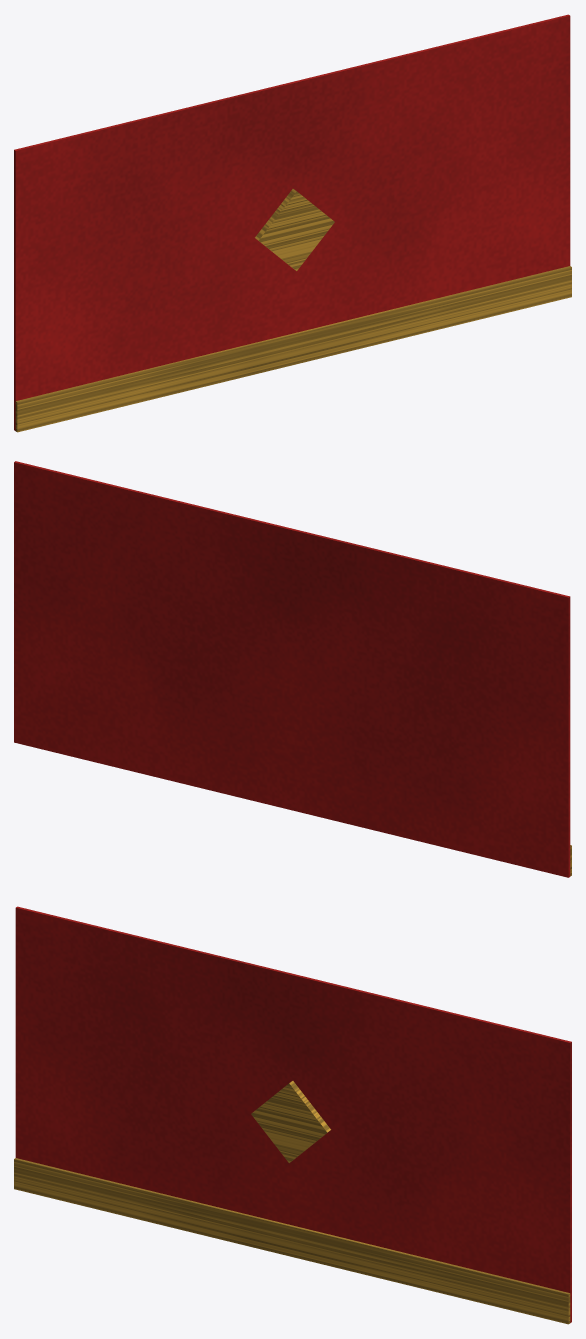
File: altar_cloth.fbx
3 views of the same model, one above another, from view 1: azimuth 30°, elevation 25°; view 2: azimuth 150°, elevation 25°; view 3: azimuth 330°, elevation 25° (orthographic).
Visible parts, largest first — view 1: altar_cloth; view 2: altar_cloth; view 3: altar_cloth.
Part boxes in pixels (x1,y1,x2,y2): altar_cloth: (14,14,571,432); altar_cloth: (14,461,571,877); altar_cloth: (14,906,571,1324).
Size of the model in its own units: 116 by 56 by 2.
